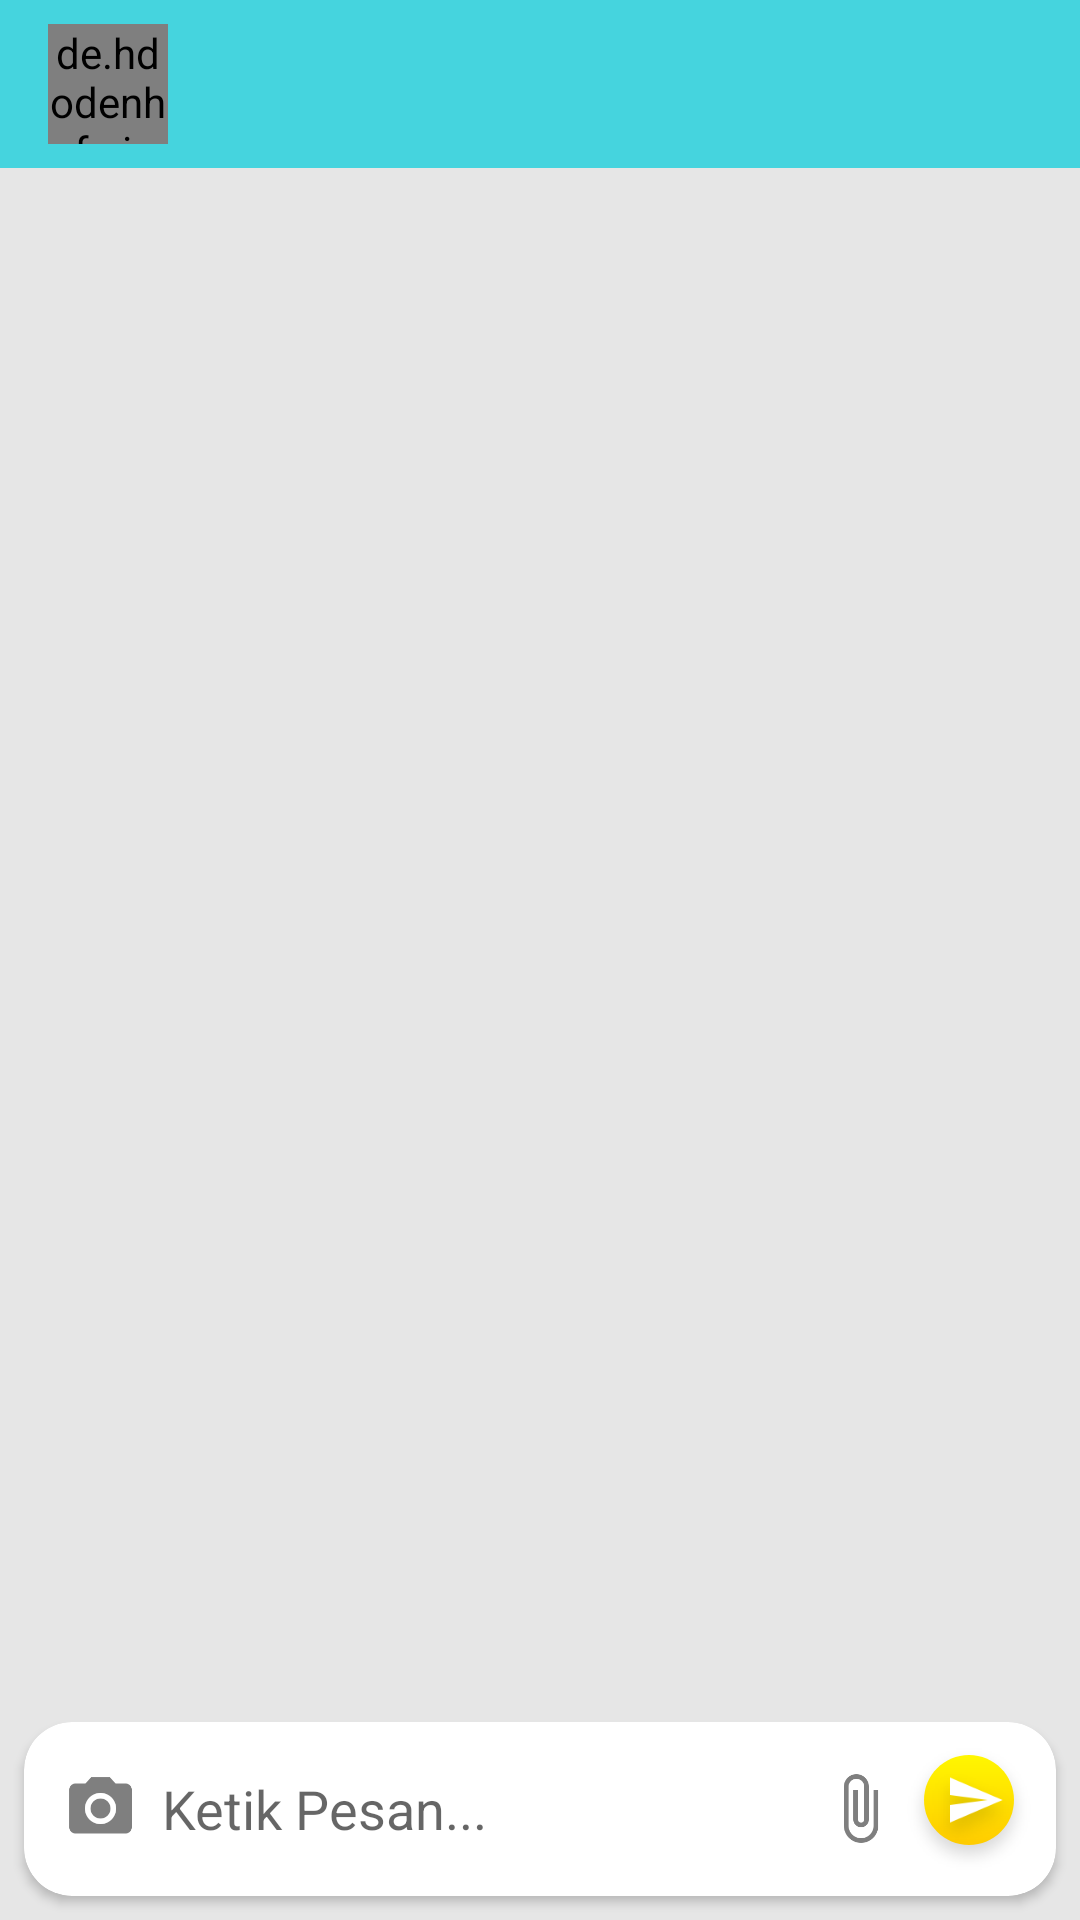

Screen size 1080px x 1920px. Icon name, then its box in pixels as (x1, y1, x2, y2):
attach file: (844, 1774, 878, 1843)
photo camera: (69, 1777, 132, 1834)
tombol kirim: (924, 1755, 1014, 1851)
